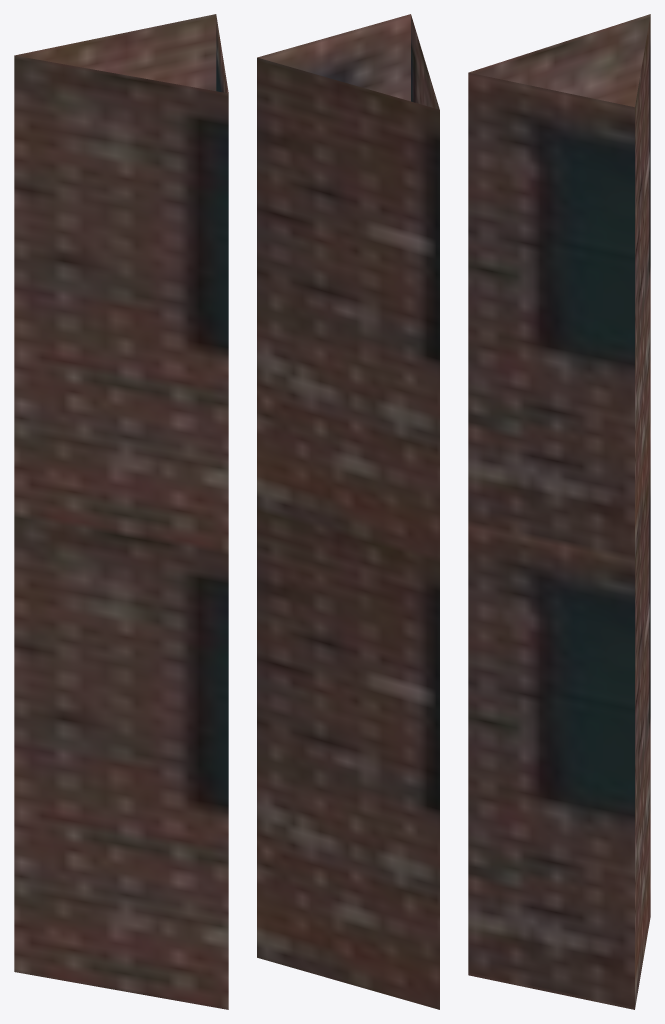
Rendered from ResTex__891.fbx.
3 views of the same model, side by side, from view 1: azimuth 30°, elevation 25°; view 2: azimuth 150°, elevation 25°; view 3: azimuth 270°, elevation 25° (orthographic).
Parts seen in each view (by area): view 1: CityEngineMaterial_14_m; view 2: CityEngineMaterial_14_m; view 3: CityEngineMaterial_14_m.
Part boxes in pixels (x1,y1,x2,y2): CityEngineMaterial_14_m: (14,14,228,1009); CityEngineMaterial_14_m: (257,14,439,1009); CityEngineMaterial_14_m: (468,14,650,1009).
Bounding box in the file's own units: 1.33 × 6 × 1.1.
Materials: 1 (1 with a texture image).
